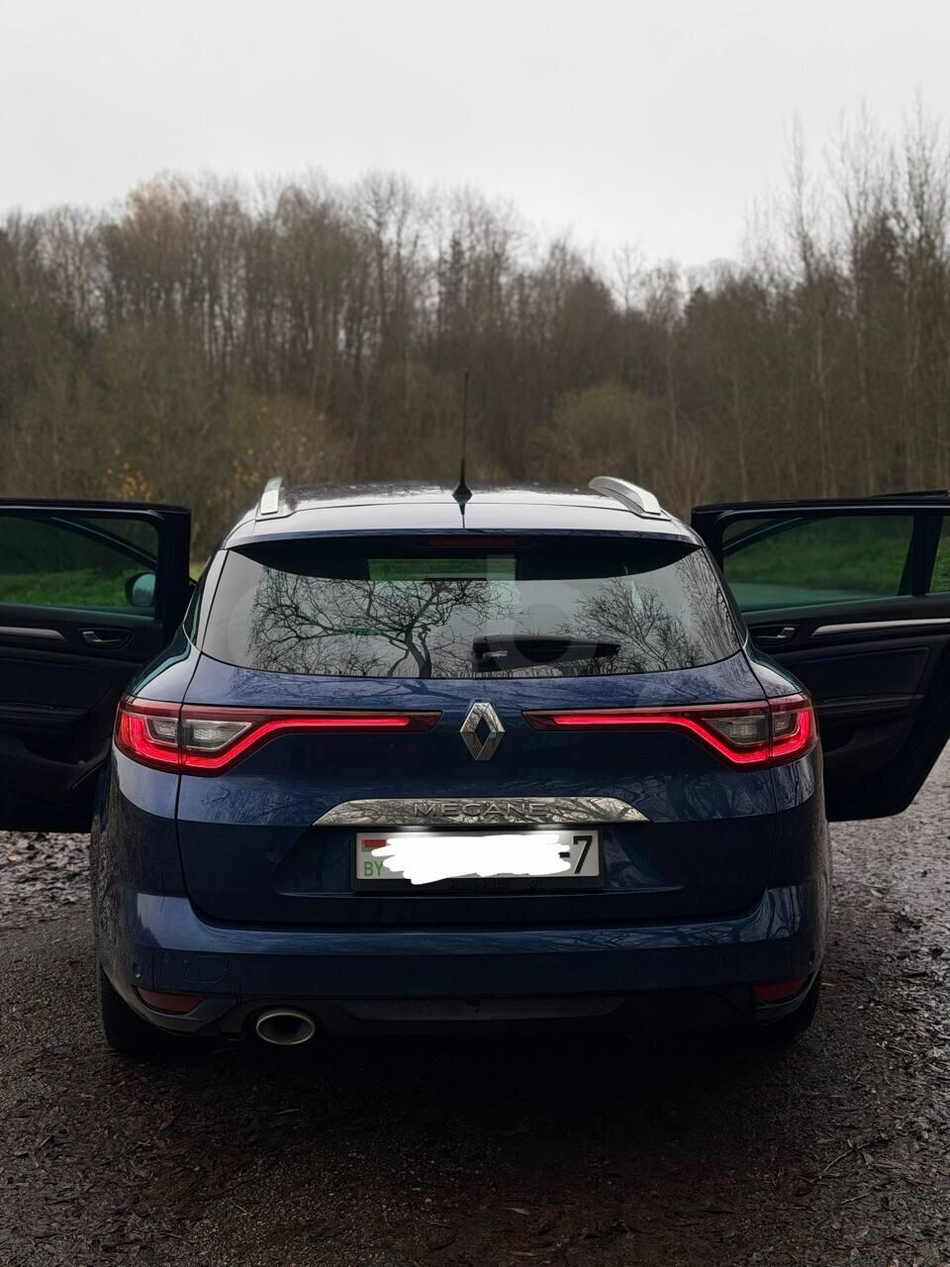Megane_2016-2020: (59, 472, 869, 1076)
